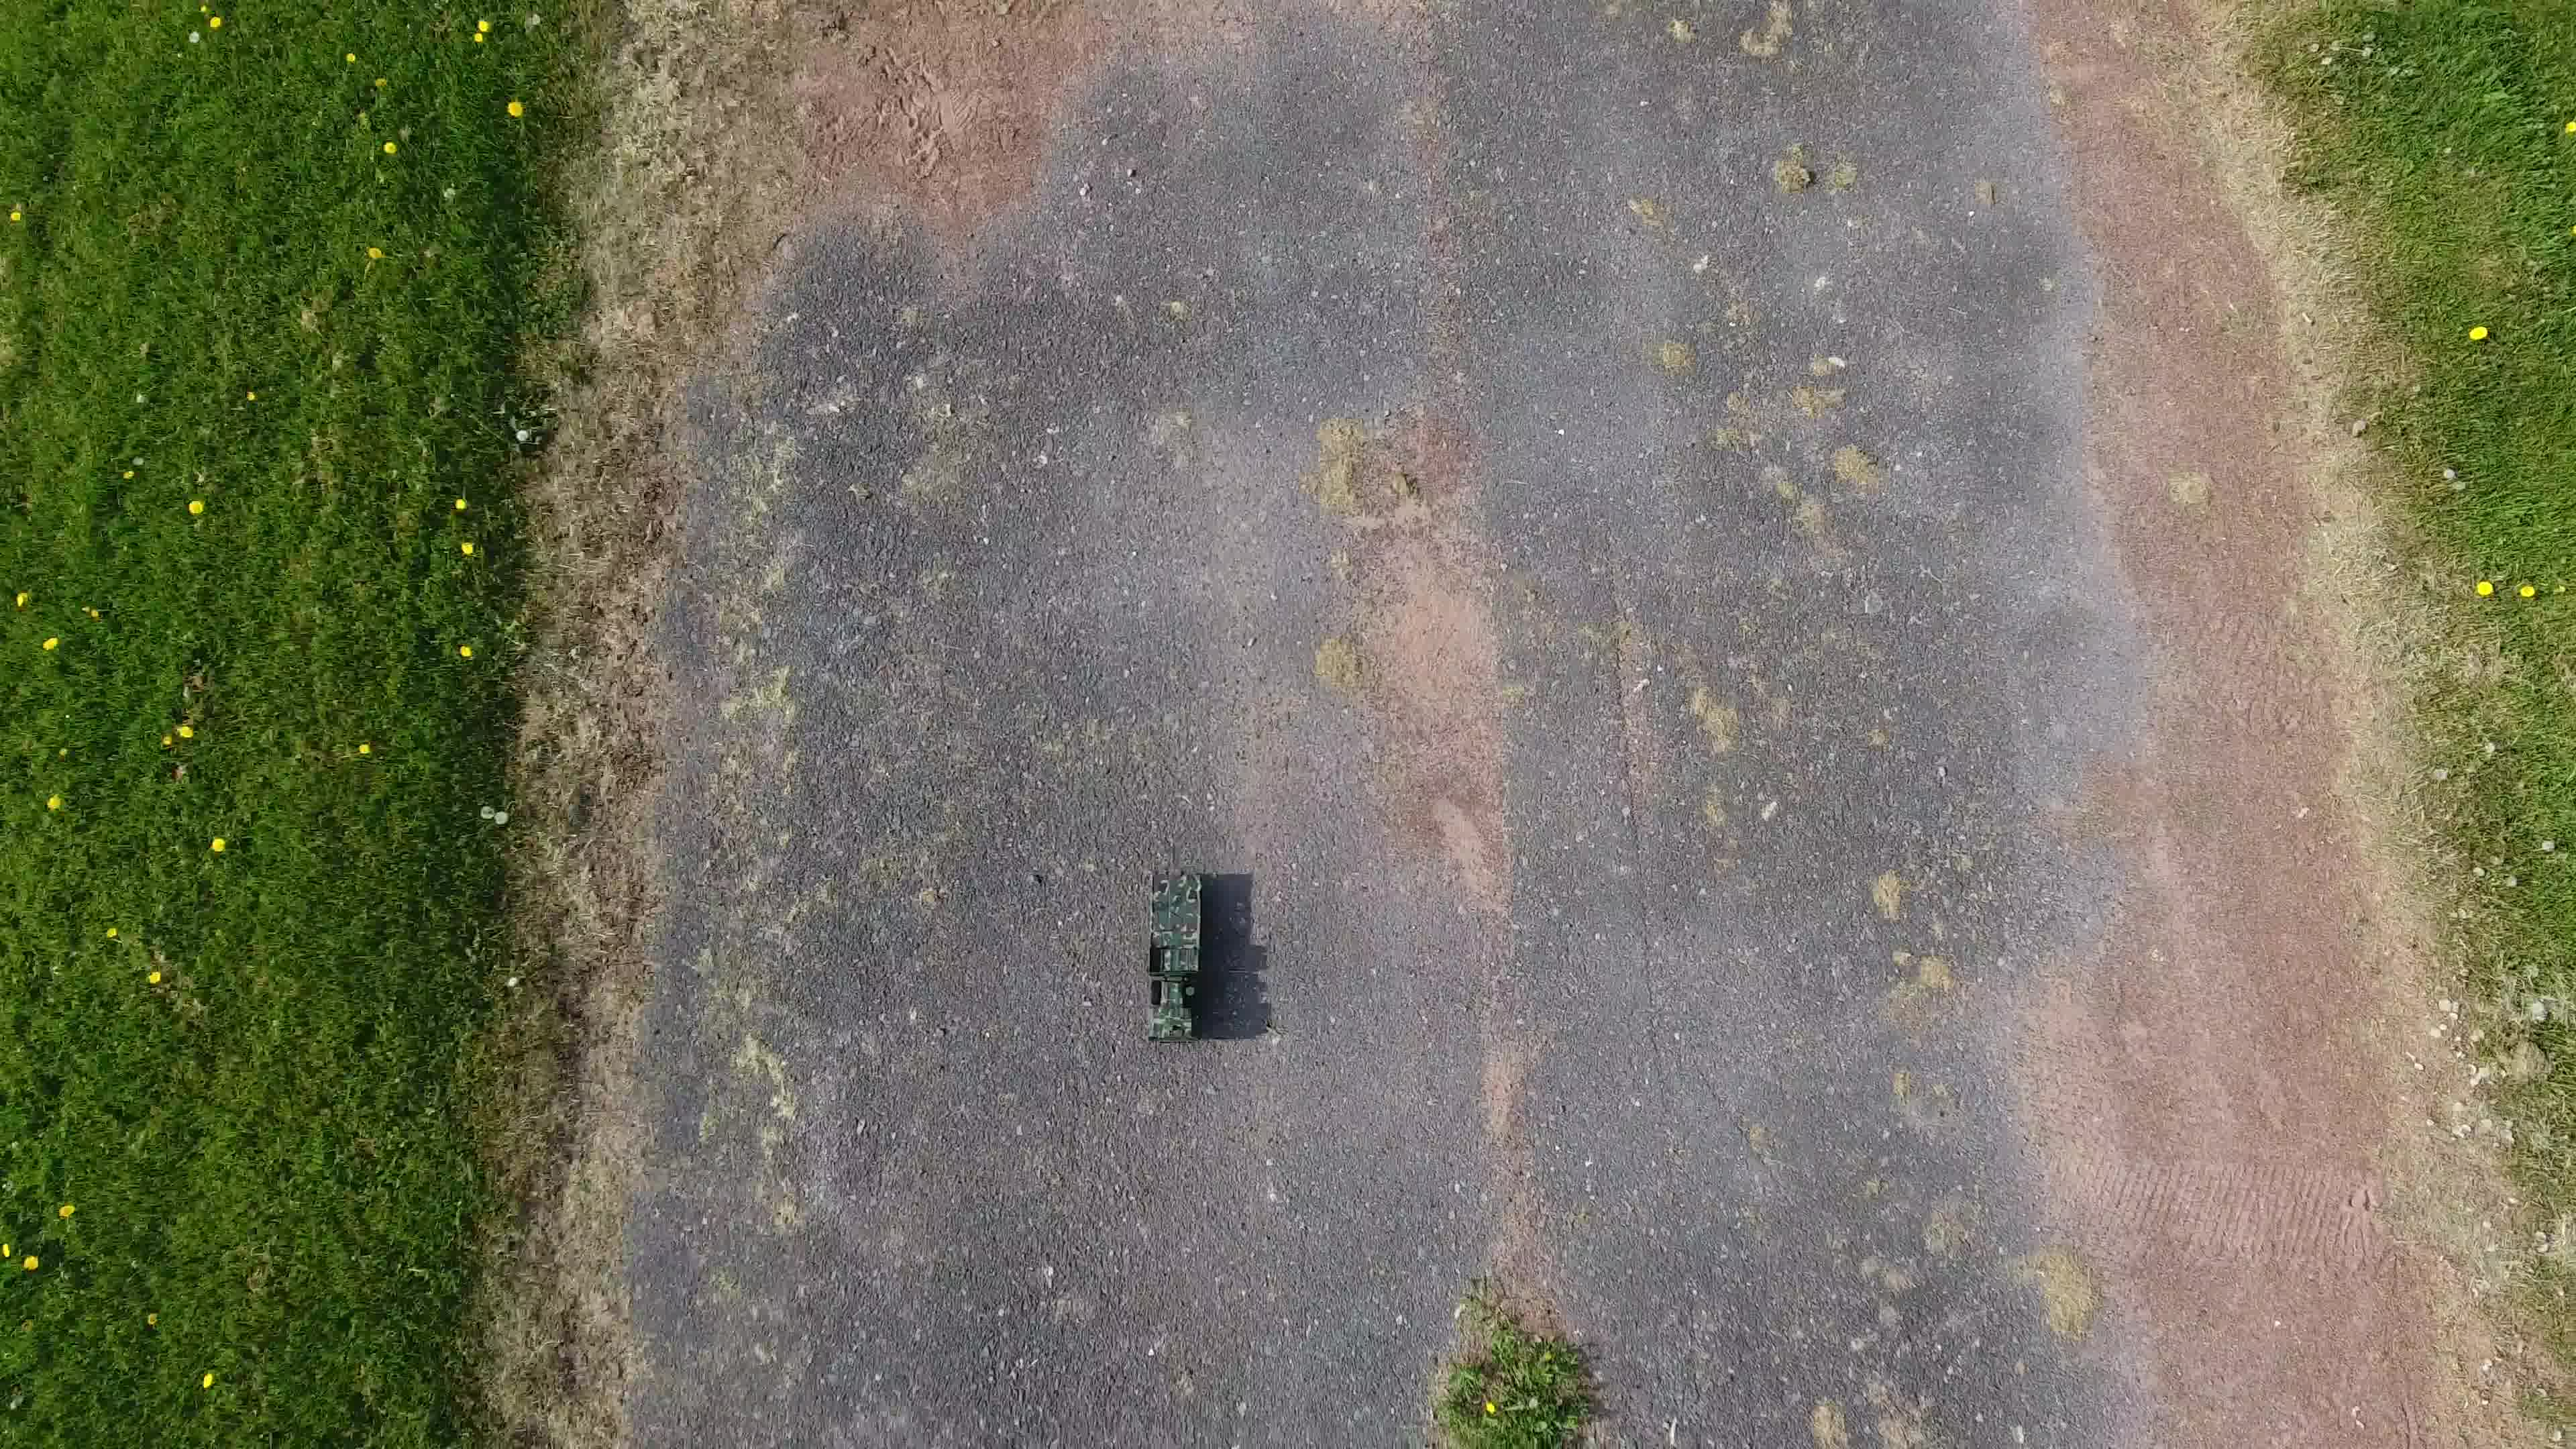transporter9_camo: (1138, 863, 1214, 1047)
